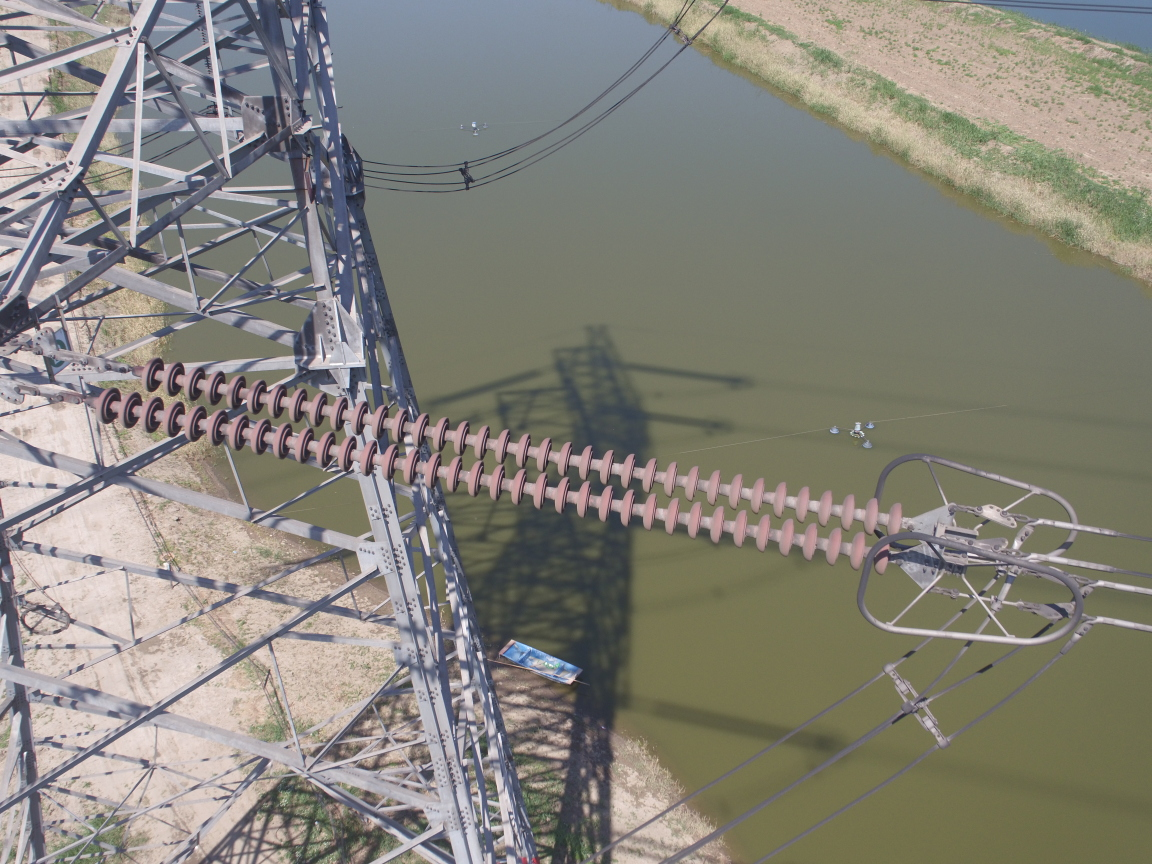insulator: (62, 353, 921, 578)
